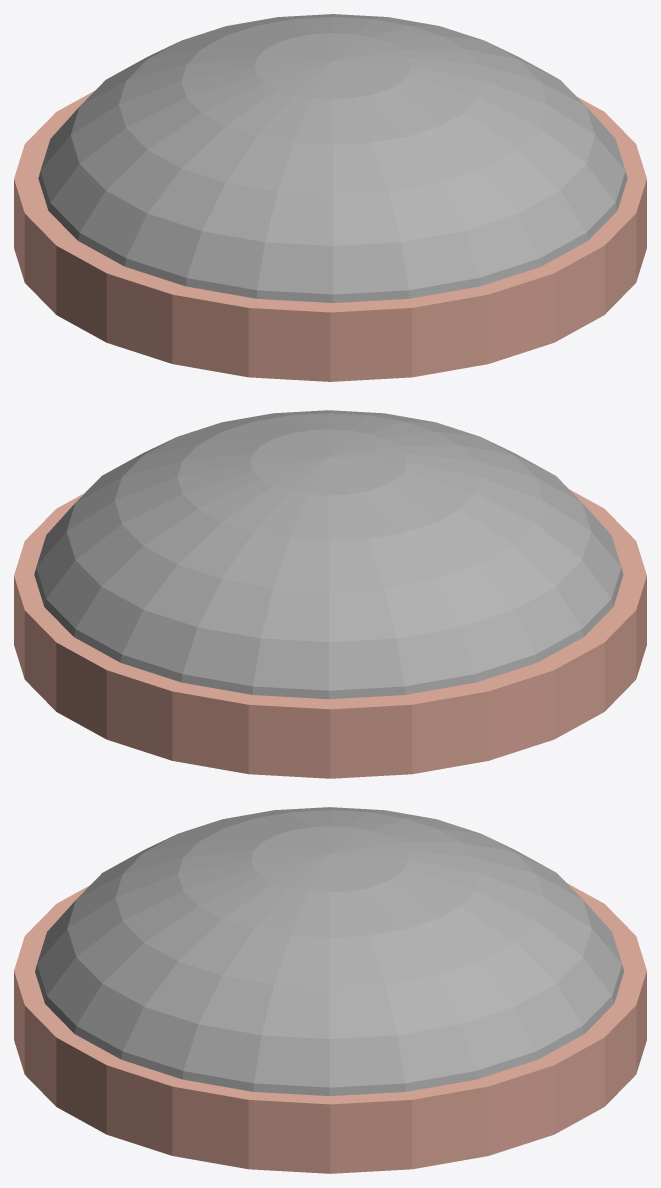
The model's file is Luke1.fbx.
3 views of the same model, one above another, from view 1: azimuth 30°, elevation 25°; view 2: azimuth 150°, elevation 25°; view 3: azimuth 270°, elevation 25° (orthographic).
Parts seen in each view (by area): view 1: Cylinder_3; view 2: Cylinder_3; view 3: Cylinder_3.
Part boxes in pixels (x1,y1,x2,y2): Cylinder_3: [14, 14, 646, 381]; Cylinder_3: [14, 410, 646, 778]; Cylinder_3: [14, 807, 646, 1173].
Size of the model in its own units: 120 by 39.17 by 120.
